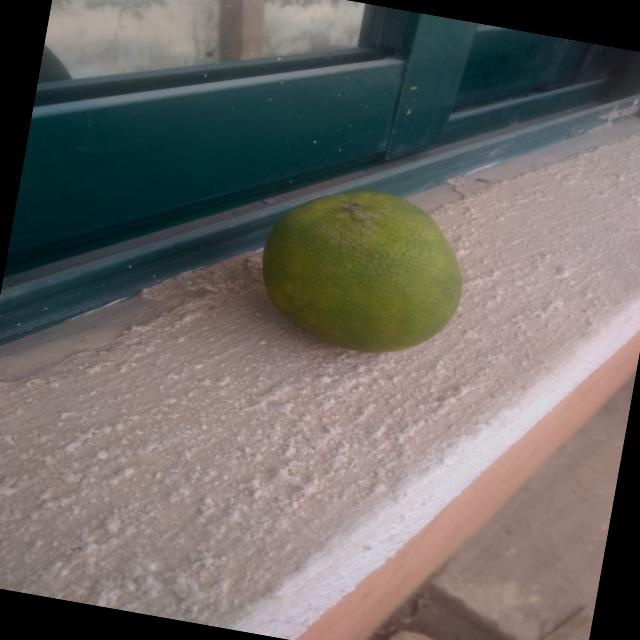agrume: (234, 165, 482, 385)
